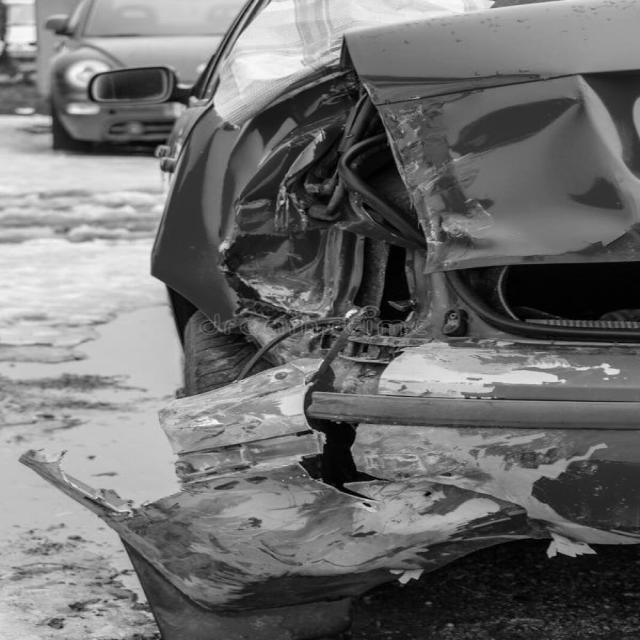crush: (10, 0, 640, 640)
